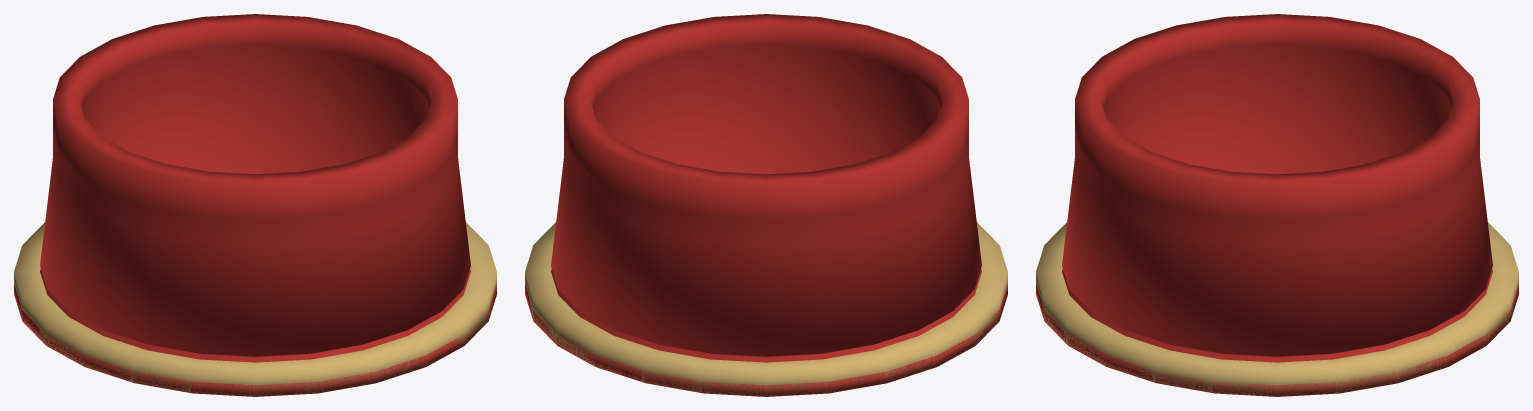
File: shotgun-case.glb
3 views of the same model, side by side, from view 1: azimuth 30°, elevation 25°; view 2: azimuth 150°, elevation 25°; view 3: azimuth 270°, elevation 25° (orthographic).
Visible parts, largest first — view 1: open-case-body, case-head; view 2: open-case-body, case-head; view 3: open-case-body, case-head.
Boxes of the visible parts, <box> form: open-case-body: <box>14,14,496,396</box>; case-head: <box>14,222,496,396</box>; open-case-body: <box>525,14,1007,396</box>; case-head: <box>525,222,1007,396</box>; open-case-body: <box>1036,14,1518,396</box>; case-head: <box>1036,222,1518,396</box>.
Size of the model in its own units: 2.24 by 1.01 by 2.24.
